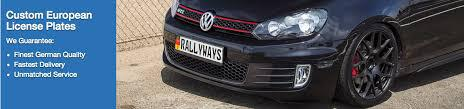A: (207, 46, 211, 58), (185, 40, 189, 51)
L: (193, 42, 198, 54), (190, 40, 193, 52)
R: (181, 38, 185, 50)
S: (217, 48, 222, 60)
W: (202, 44, 207, 56)
Y: (212, 47, 216, 59), (199, 43, 202, 55)
